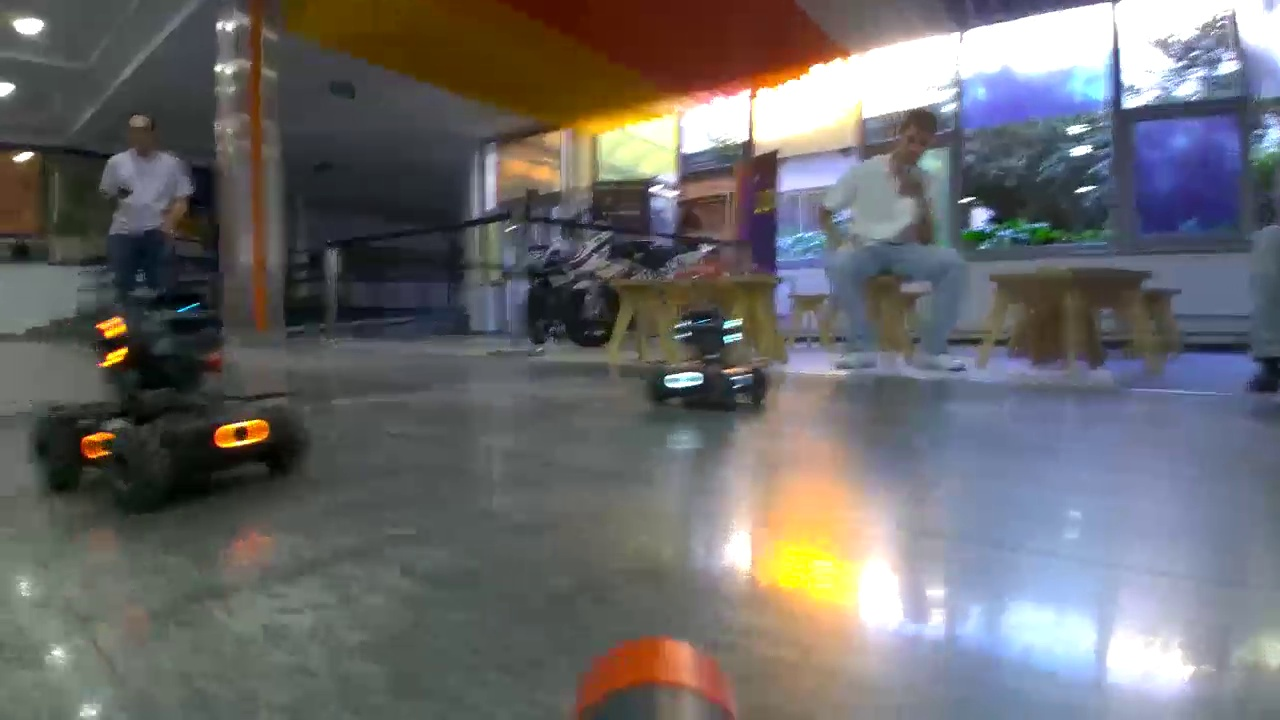robot: (35, 312, 300, 510), (650, 308, 768, 405)
